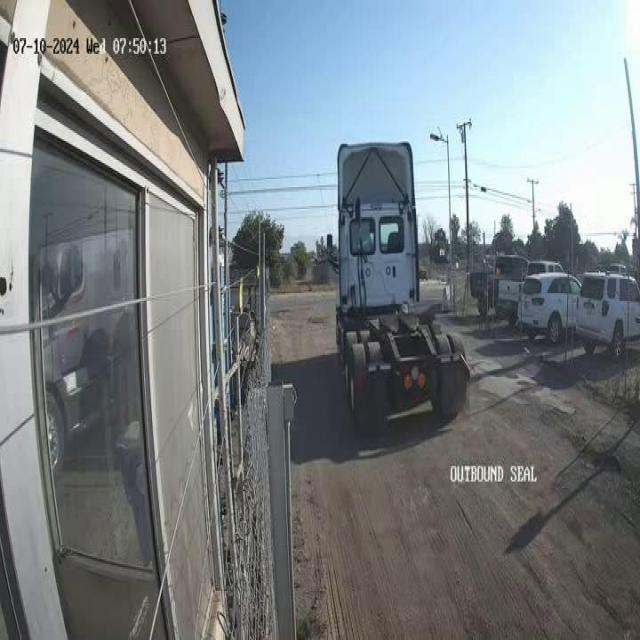TRUCK_OUT: (333, 140, 471, 426)
